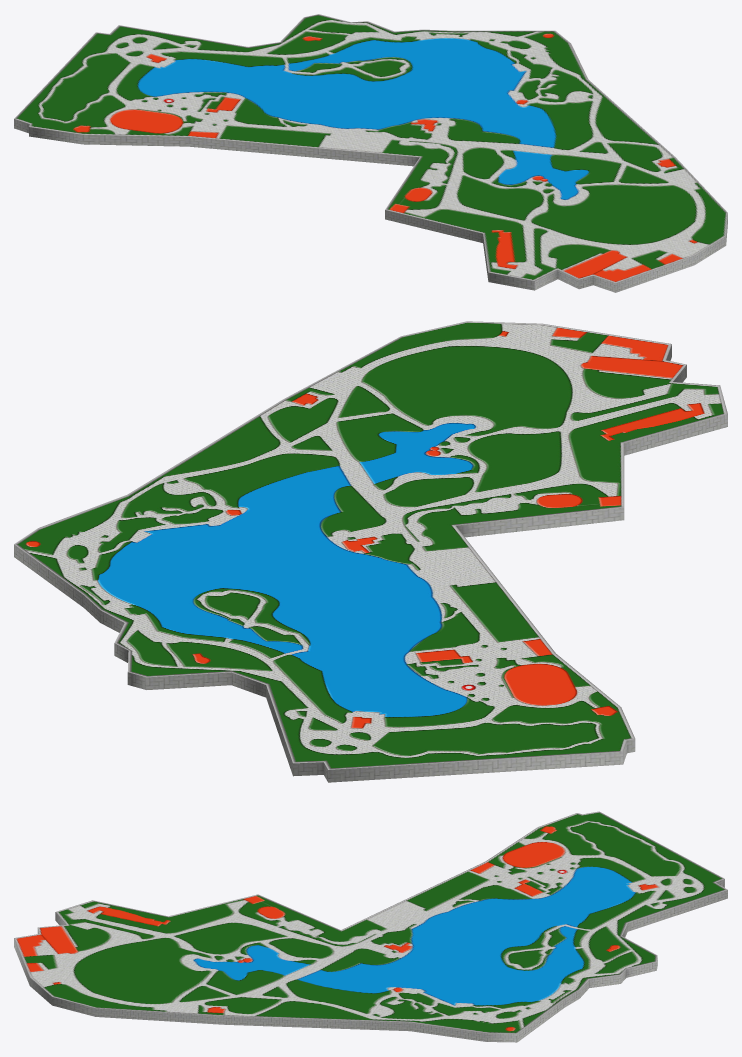
File: tsgy.gltf
3 renders of one model, top to bottom at view 1: azimuth 30°, elevation 25°; view 2: azimuth 150°, elevation 25°; view 3: azimuth 270°, elevation 25°, orthographic. The views are drawn at different scales.
Visible parts, largest first — view 1: pCube1; view 2: pCube1; view 3: pCube1.
Part boxes in pixels (<box>): pCube1: <box>14,14,727,292</box>; pCube1: <box>14,321,727,782</box>; pCube1: <box>14,811,727,1042</box>.
Size of the model in its own units: 14.07 by 0.2561 by 19.09.
Materials: 1 (1 with a texture image).
